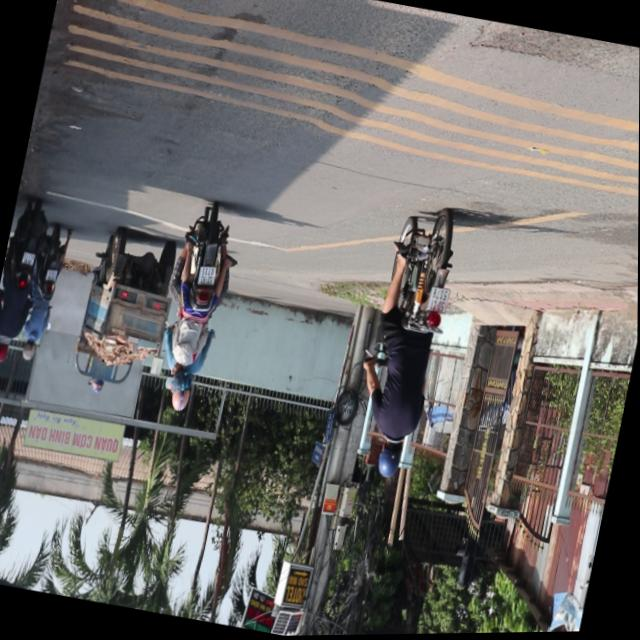helmet: (375, 438, 406, 482), (169, 383, 192, 414)
licenseplate: (345, 203, 469, 489), (147, 200, 247, 419)
motorcyclist: (166, 363, 188, 396)
nohelmet: (427, 287, 450, 314), (197, 265, 216, 287)
